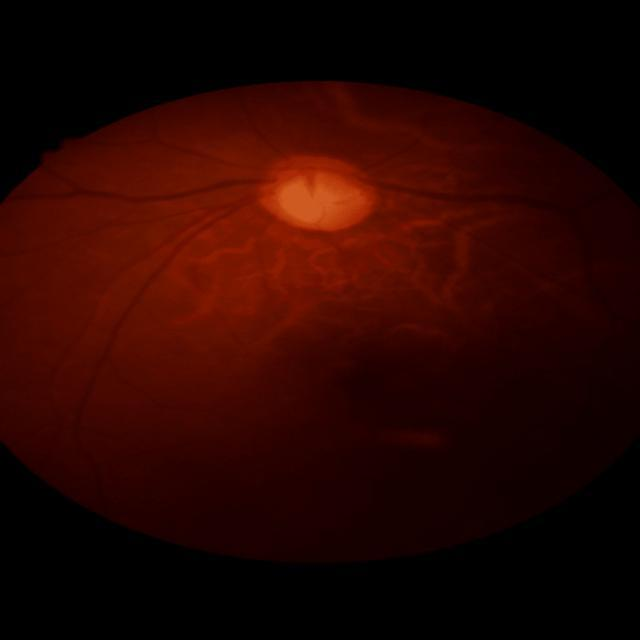cup: (275, 167, 361, 224)
disk: (256, 153, 379, 230)
